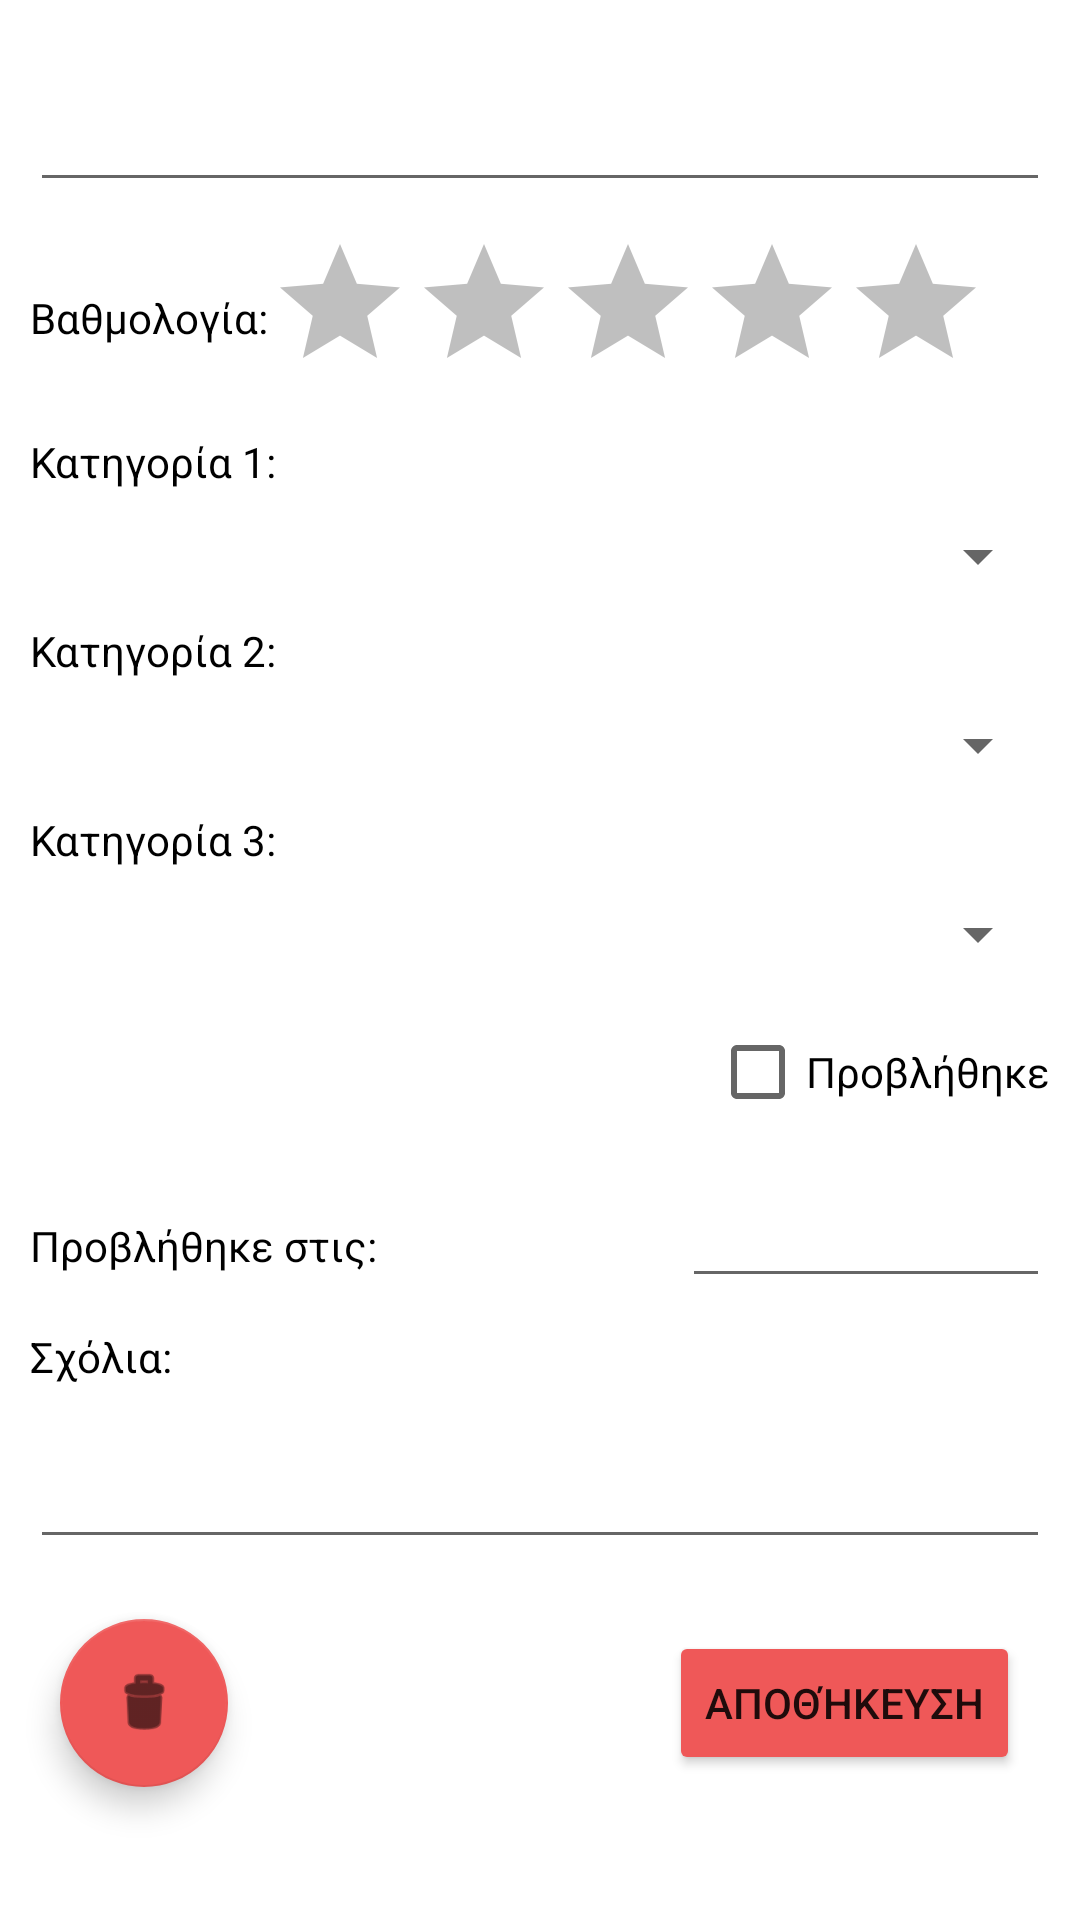

Point at icon controls on the screen. Image size 1080 × 1920, points as [x,y].
delete: [144,1703]
